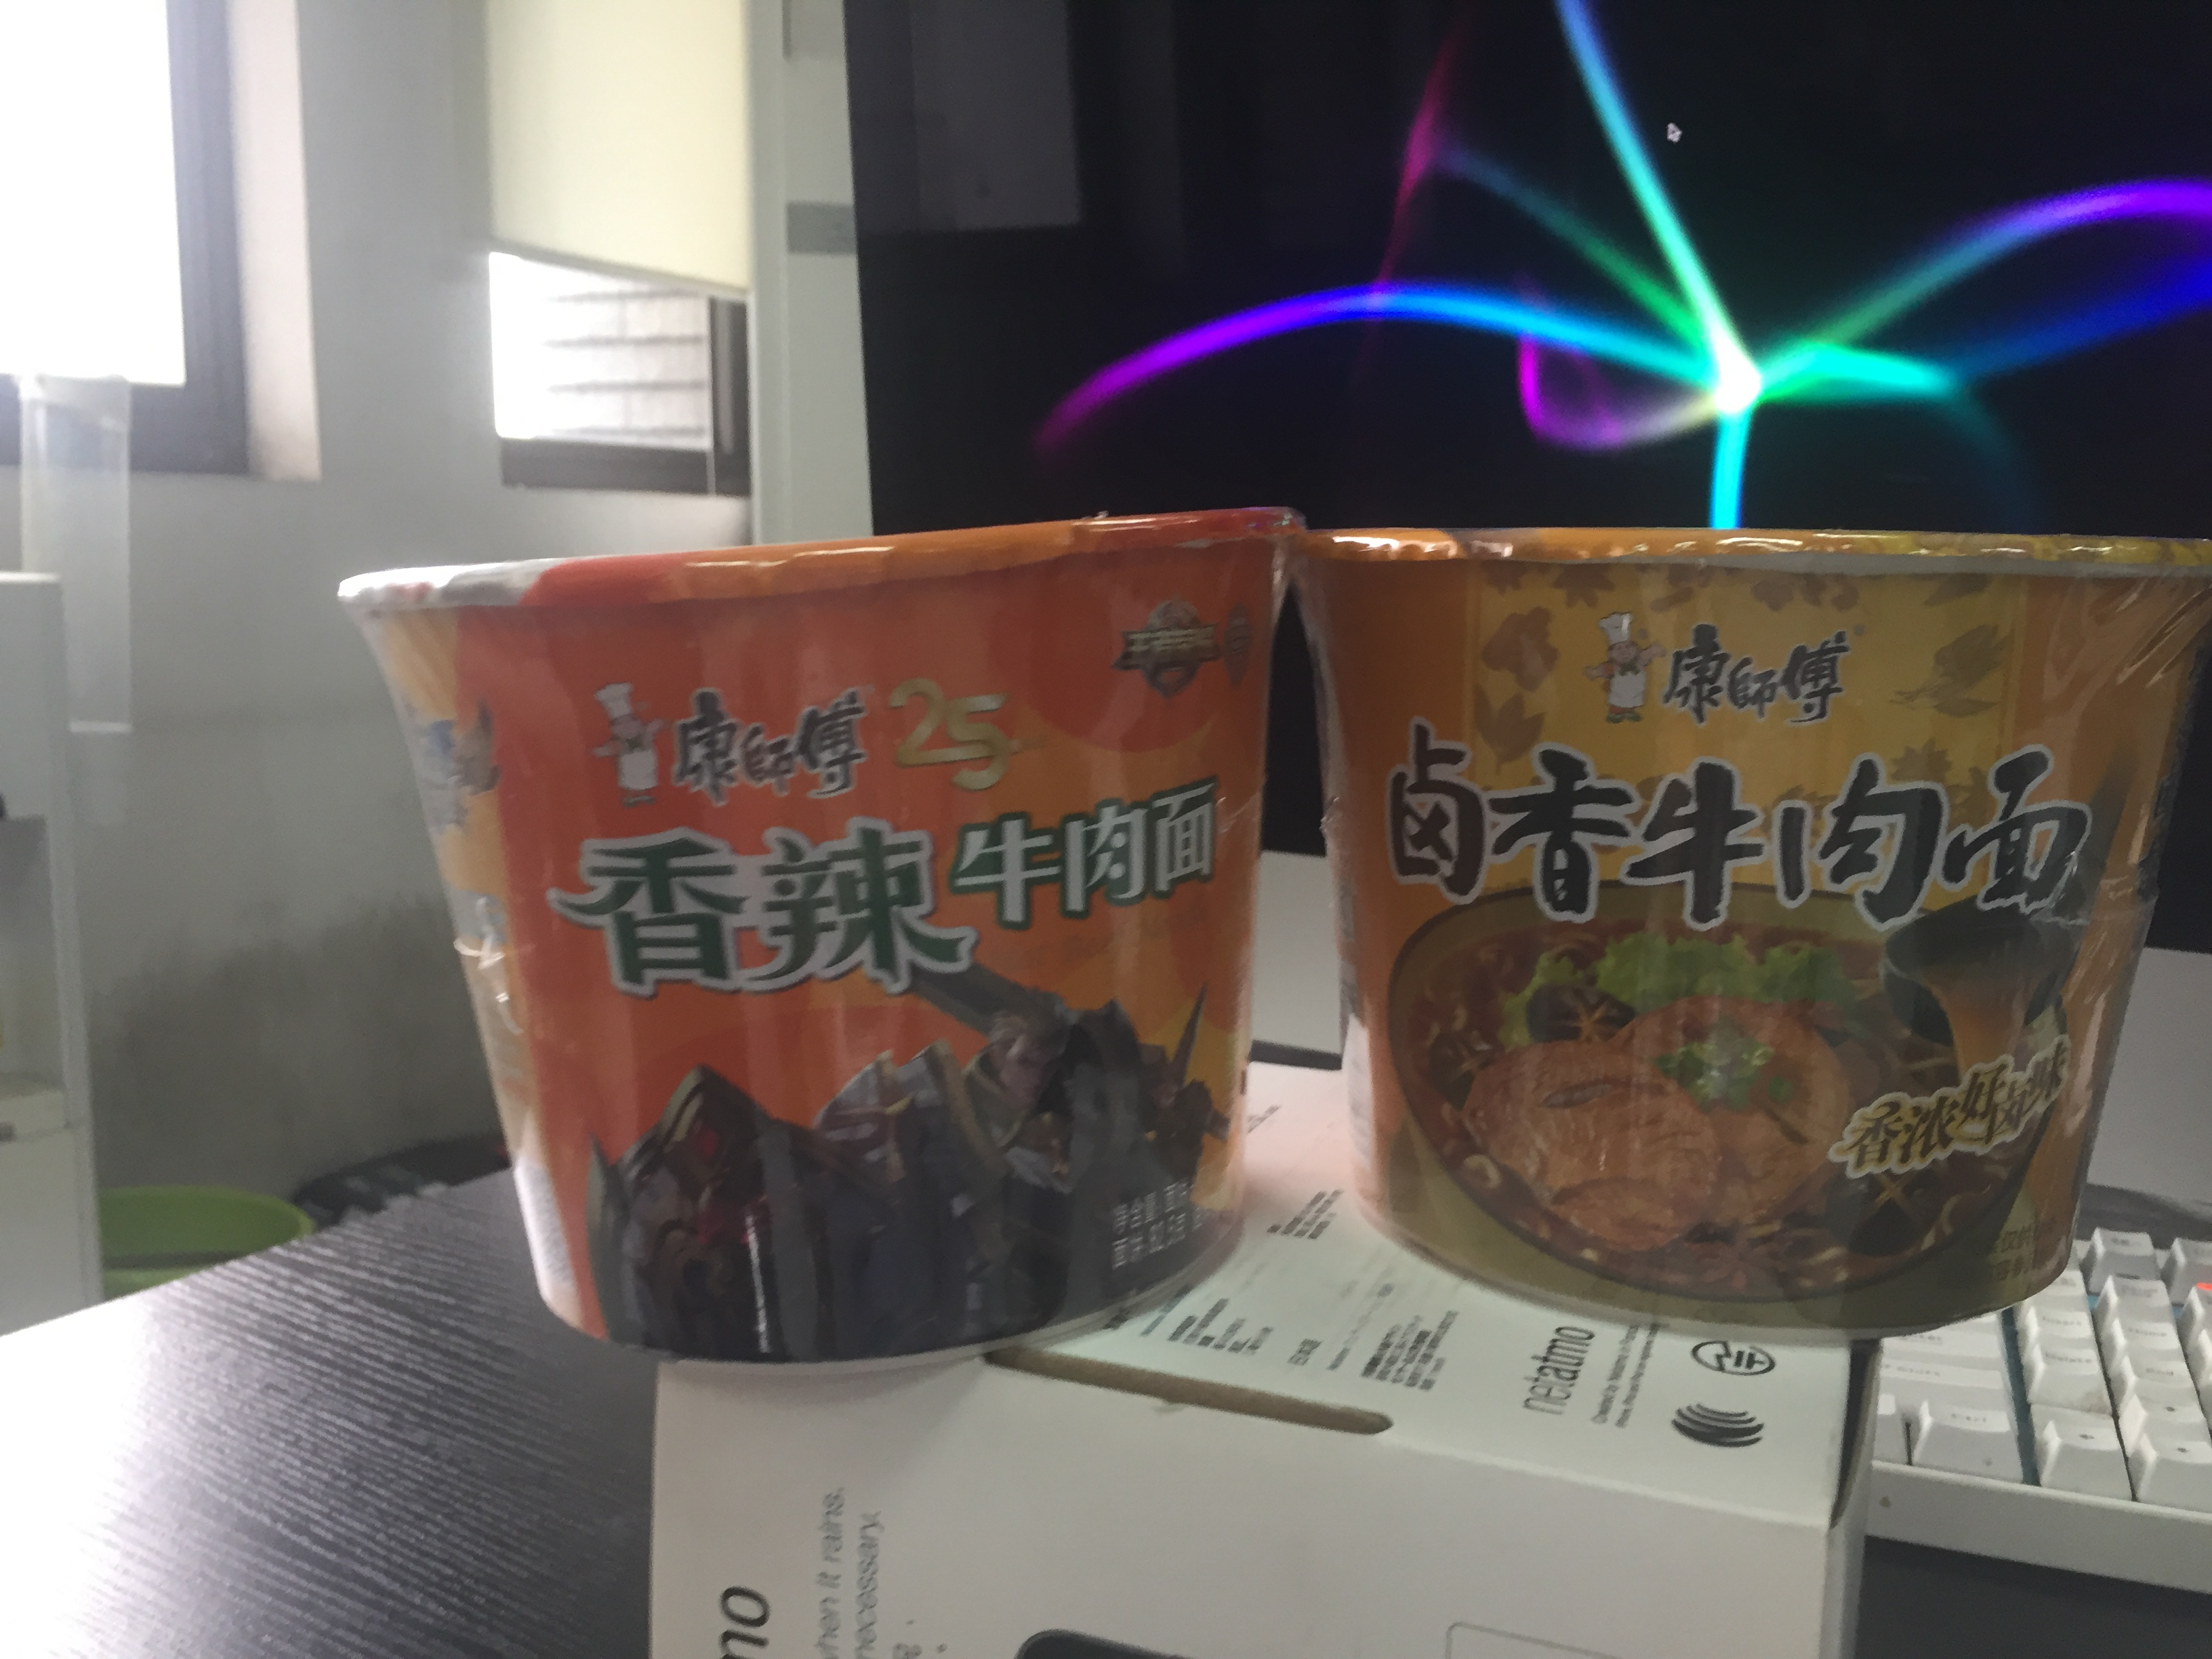luxiang: (1292, 526, 2212, 1349)
xiangla: (338, 509, 1312, 1384)
